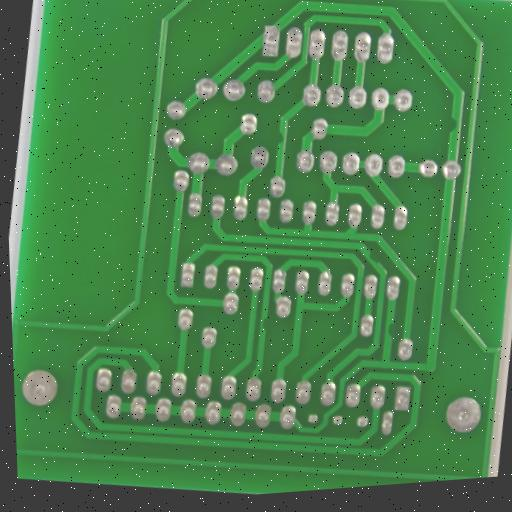mouse_bite: (444, 110, 468, 138), (274, 126, 292, 148), (366, 248, 383, 267), (382, 321, 398, 341), (257, 314, 271, 334)
